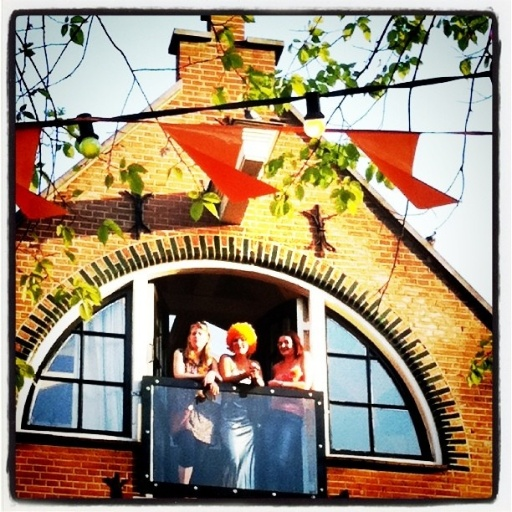hand: (203, 370, 215, 390), (207, 380, 220, 397), (243, 365, 260, 378), (268, 377, 280, 387)
